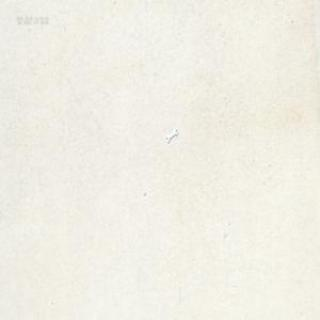Wrenchtrack_idkeyframe: (165, 128, 177, 142)
